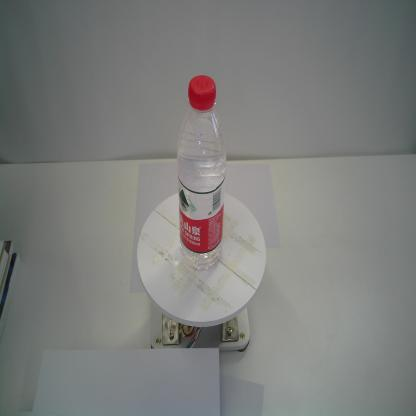Drink: (174, 74, 228, 274)
